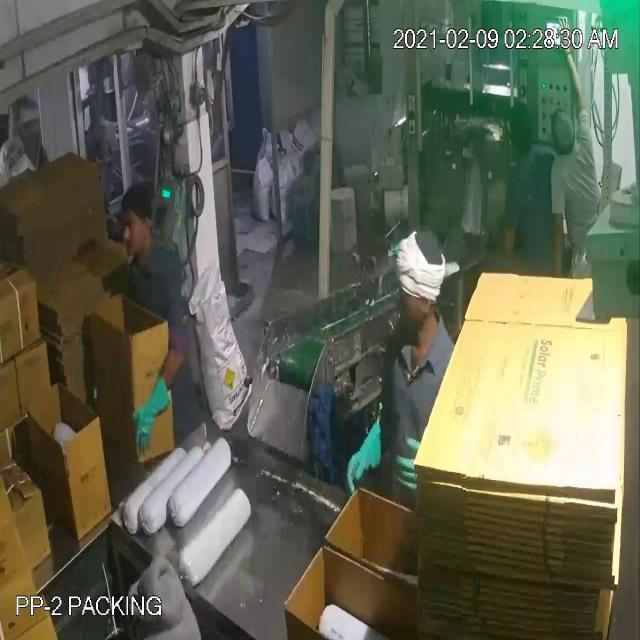Gloves: (28, 70, 576, 452)
